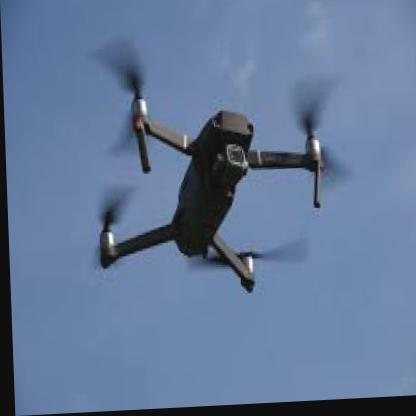UAS: (94, 89, 325, 304)
